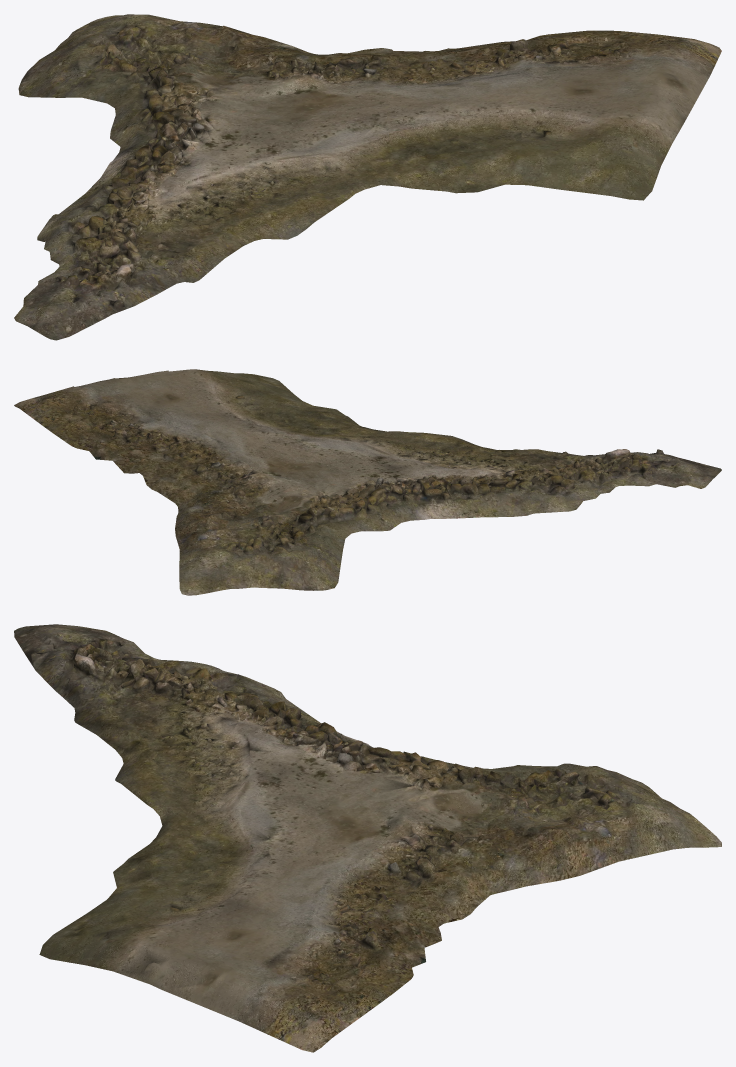
Rendered from coast_rocks_01-lod.glb.
3 views of the same model, one above another, from view 1: azimuth 30°, elevation 25°; view 2: azimuth 150°, elevation 25°; view 3: azimuth 270°, elevation 25° (orthographic). The views are drawn at different scales.
Parts seen in each view (by area): view 1: coast_rocks_01; view 2: coast_rocks_01; view 3: coast_rocks_01.
Boxes of the visible parts, x1,y1,x2,y2 form: coast_rocks_01: (14, 14, 721, 340); coast_rocks_01: (14, 369, 721, 595); coast_rocks_01: (14, 624, 721, 1052).
Bounding box in the file's own units: 59.51 × 3.28 × 42.48.
Materials: 1 (1 with a texture image).
